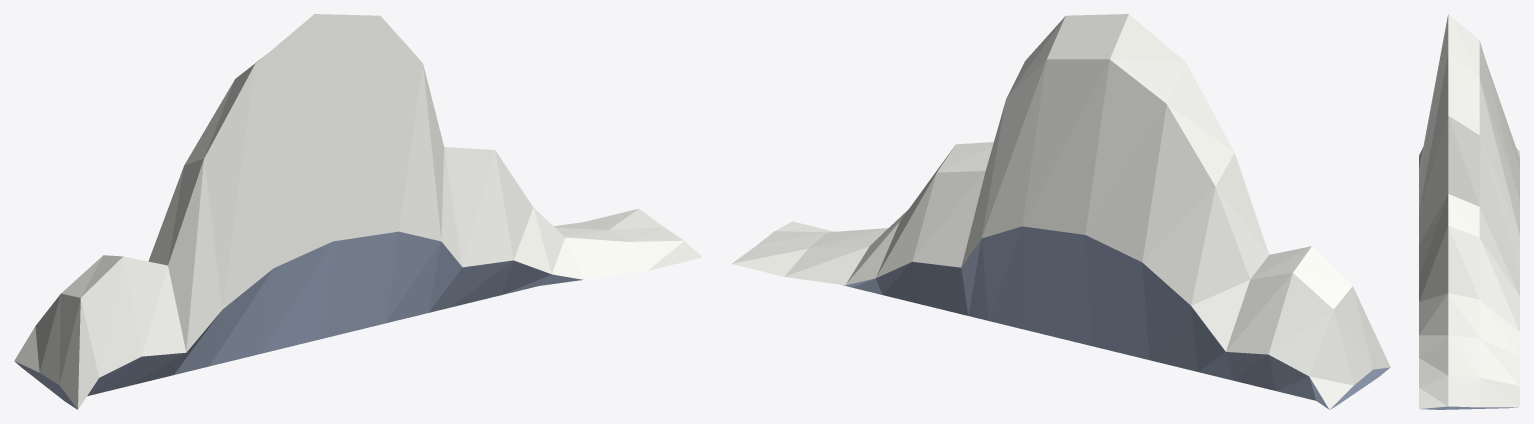
3 renders of one model, left to right at view 1: azimuth 30°, elevation 25°; view 2: azimuth 150°, elevation 25°; view 3: azimuth 270°, elevation 25°, orthographic. The views are drawn at different scales.
Visible parts, largest first — view 1: 鼓起折面云团与淡蓝纸背.001; view 2: 鼓起折面云团与淡蓝纸背.001; view 3: 鼓起折面云团与淡蓝纸背.001.
Part boxes in pixels (left/top/right/bottom): 鼓起折面云团与淡蓝纸背.001: left=14, top=14, right=702, bottom=409; 鼓起折面云团与淡蓝纸背.001: left=731, top=14, right=1390, bottom=409; 鼓起折面云团与淡蓝纸背.001: left=1419, top=14, right=1519, bottom=409.
Size of the model in its own units: 2.94 by 1.44 by 0.52.
